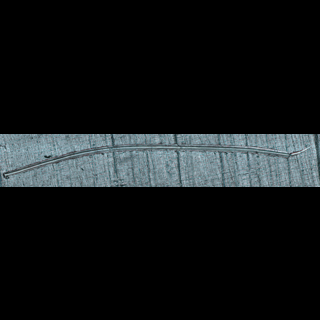d: (2, 141, 314, 180)
